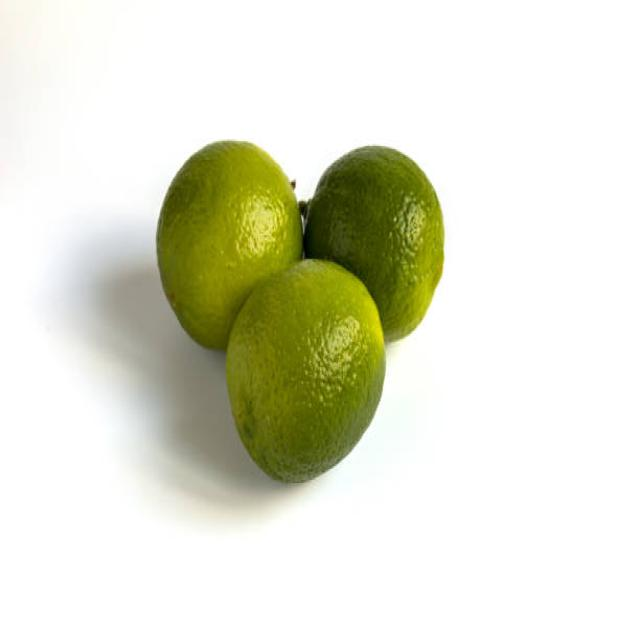Unripe: (225, 258, 385, 481), (156, 135, 302, 347)
